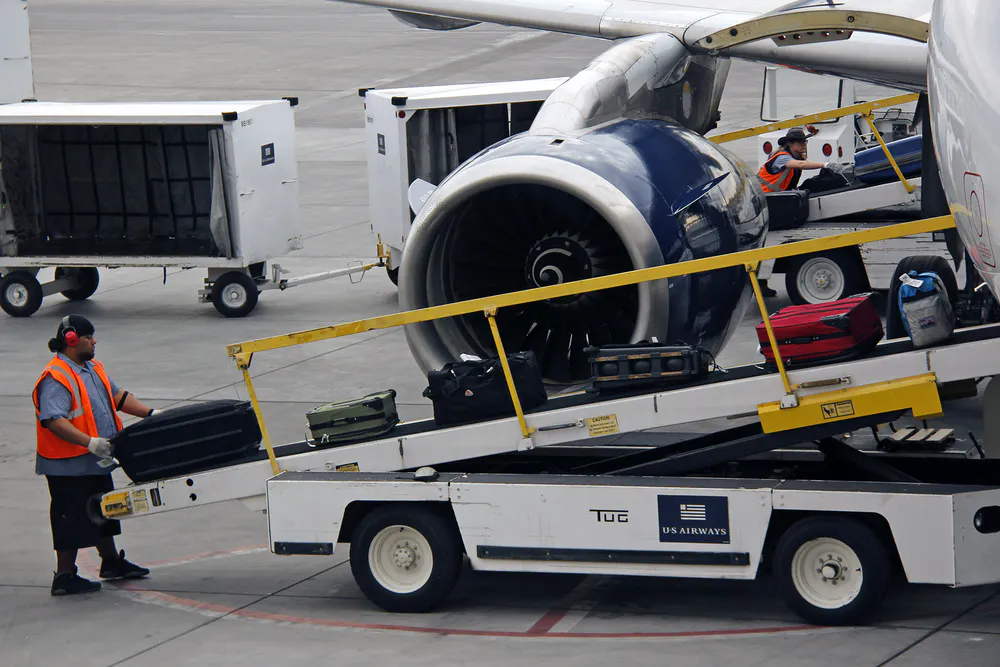baggagetruck: (87, 218, 1000, 616)
